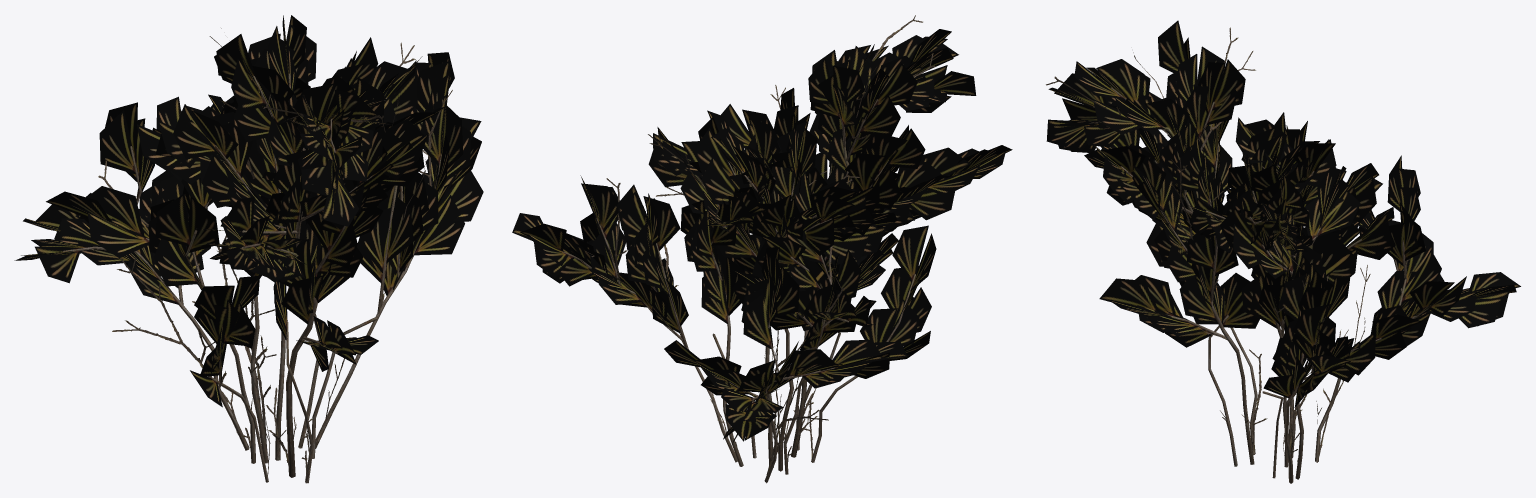
The model's file is rooibos_bush.gltf.
The picture shows the model from 3 angles, left to right: view 1: azimuth 30°, elevation 25°; view 2: azimuth 150°, elevation 25°; view 3: azimuth 270°, elevation 25°; orthographic projection. The views are drawn at different scales.
Visible parts, largest first — view 1: wild_rooibos_bush_c; view 2: wild_rooibos_bush_c; view 3: wild_rooibos_bush_c.
Part boxes in pixels (bbox=[...]): wild_rooibos_bush_c: bbox=[14, 15, 483, 483]; wild_rooibos_bush_c: bbox=[512, 15, 1012, 483]; wild_rooibos_bush_c: bbox=[1046, 20, 1520, 483].
Bounding box in the file's own units: 0.4254 × 0.4484 × 0.4721.
Materials: 3 (3 with a texture image).
